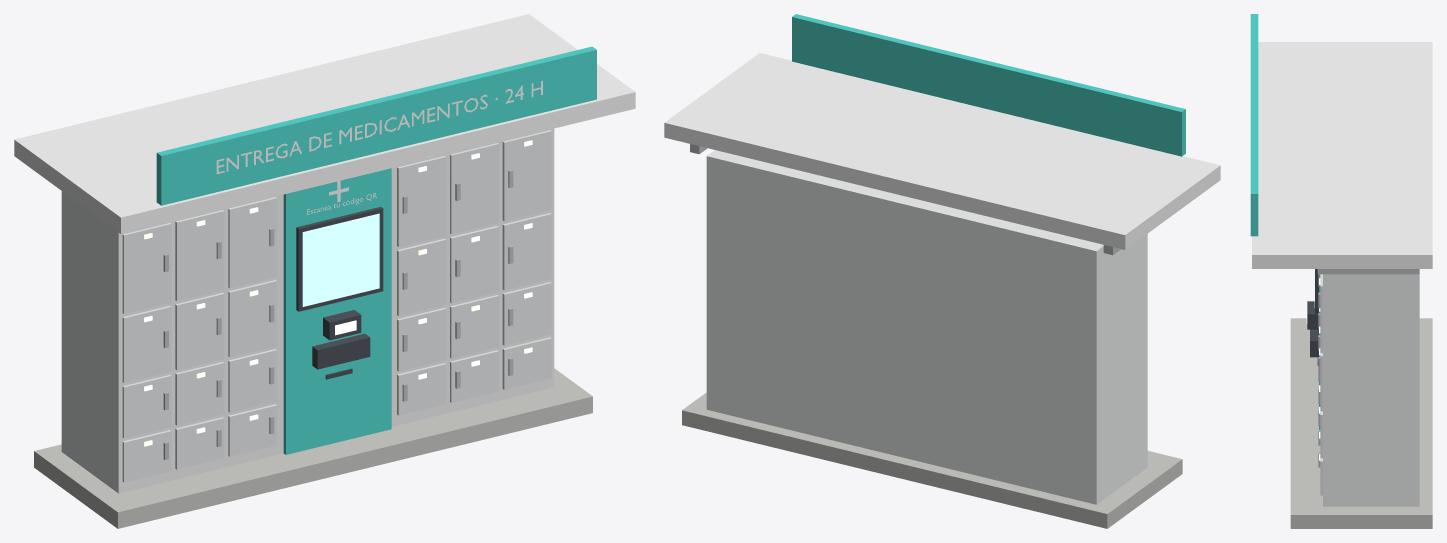
File: punto_recoleccion.glb
3 views of the same model, side by side, from view 1: azimuth 30°, elevation 25°; view 2: azimuth 150°, elevation 25°; view 3: azimuth 270°, elevation 25° (orthographic). The views are drawn at different scales.
Parts seen in each view (by area): view 1: PR_Techo, PR_Cuerpo, PR_Letrero, PR_Base, PR_Modulo, PR_Pantalla, PR_Puerta_04, PR_Puerta_08, PR_Puerta_16, PR_Puerta_24, PR_Puerta_12, PR_Puerta_20 (+22 smaller); view 2: PR_Cuerpo, PR_Techo, PR_Letrero, PR_Base; view 3: PR_Techo, PR_Cuerpo, PR_Base, PR_Letrero, PR_Soporte.001, PR_Lector_QR, PR_Teclado, PR_Puerta_24.
Part boxes in pixels (x1,y1,x2,y2): PR_Techo: (14, 14, 635, 233); PR_Cuerpo: (61, 128, 554, 493); PR_Letrero: (156, 46, 596, 205); PR_Base: (34, 368, 592, 528); PR_Modulo: (283, 168, 391, 454); PR_Pantalla: (302, 213, 379, 306); PR_Puerta_04: (228, 197, 277, 288); PR_Puerta_08: (175, 210, 224, 301); PR_Puerta_16: (397, 156, 446, 246); PR_Puerta_24: (502, 130, 551, 221); PR_Puerta_12: (122, 223, 171, 313); PR_Puerta_20: (450, 143, 498, 234); PR_Cuerpo: (706, 150, 1147, 504); PR_Techo: (664, 53, 1220, 249); PR_Letrero: (792, 14, 1185, 156); PR_Base: (682, 392, 1182, 528); PR_Techo: (1252, 42, 1432, 268); PR_Cuerpo: (1323, 274, 1419, 506); PR_Base: (1290, 318, 1432, 528); PR_Letrero: (1250, 14, 1258, 236); PR_Soporte.001: (1317, 269, 1419, 274); PR_Lector_QR: (1307, 301, 1318, 329); PR_Teclado: (1310, 329, 1318, 357); PR_Puerta_24: (1320, 274, 1322, 352).
Bounding box in the file's own units: 3.9 × 2.79 × 1.42.
